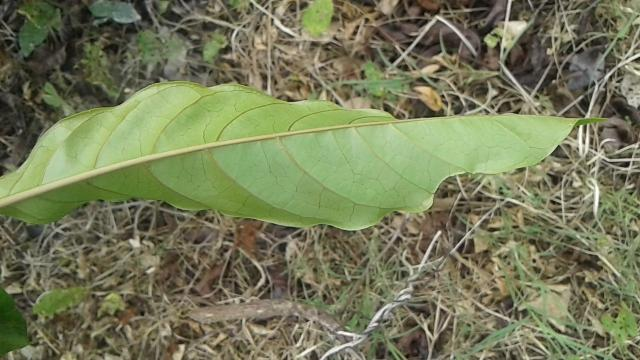healthy: (0, 80, 606, 229)
